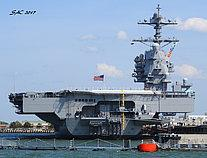MIL_Ship: (7, 3, 196, 140)
